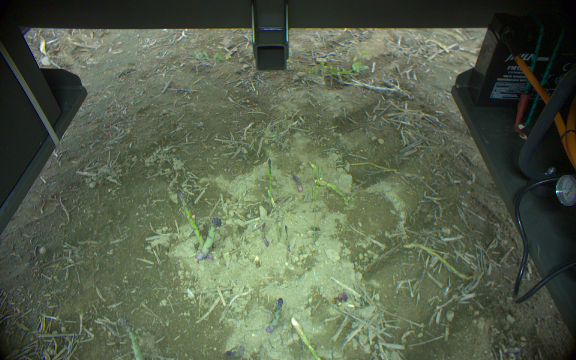aspa: (402, 241, 472, 283), (176, 189, 213, 260), (287, 316, 319, 360), (195, 215, 222, 262), (314, 178, 352, 207), (118, 318, 143, 360), (266, 296, 282, 334), (263, 158, 275, 205), (292, 174, 304, 194)
